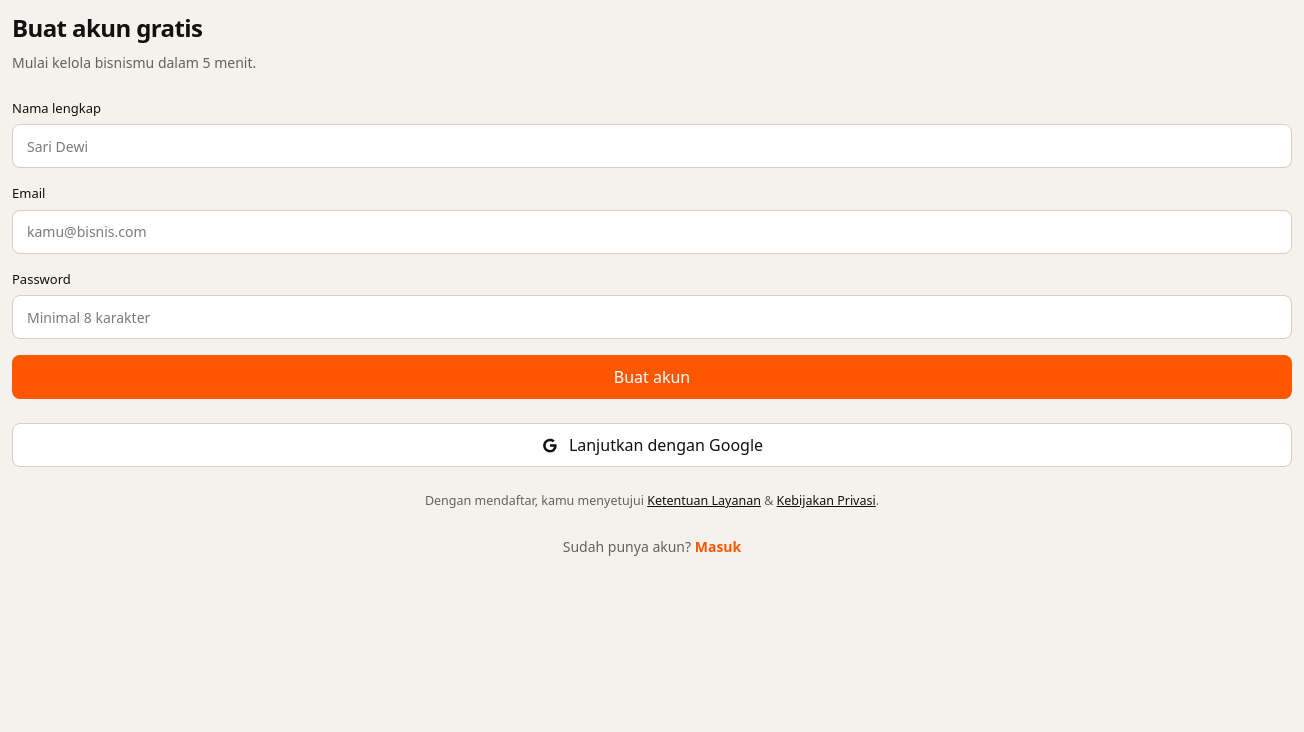
SignupForm › shows the "check your email" view when confirmation is required (no session)
Type "New User" into the field with placeholder "Sari Dewi" at (652, 146), box [12,124,1292,168]
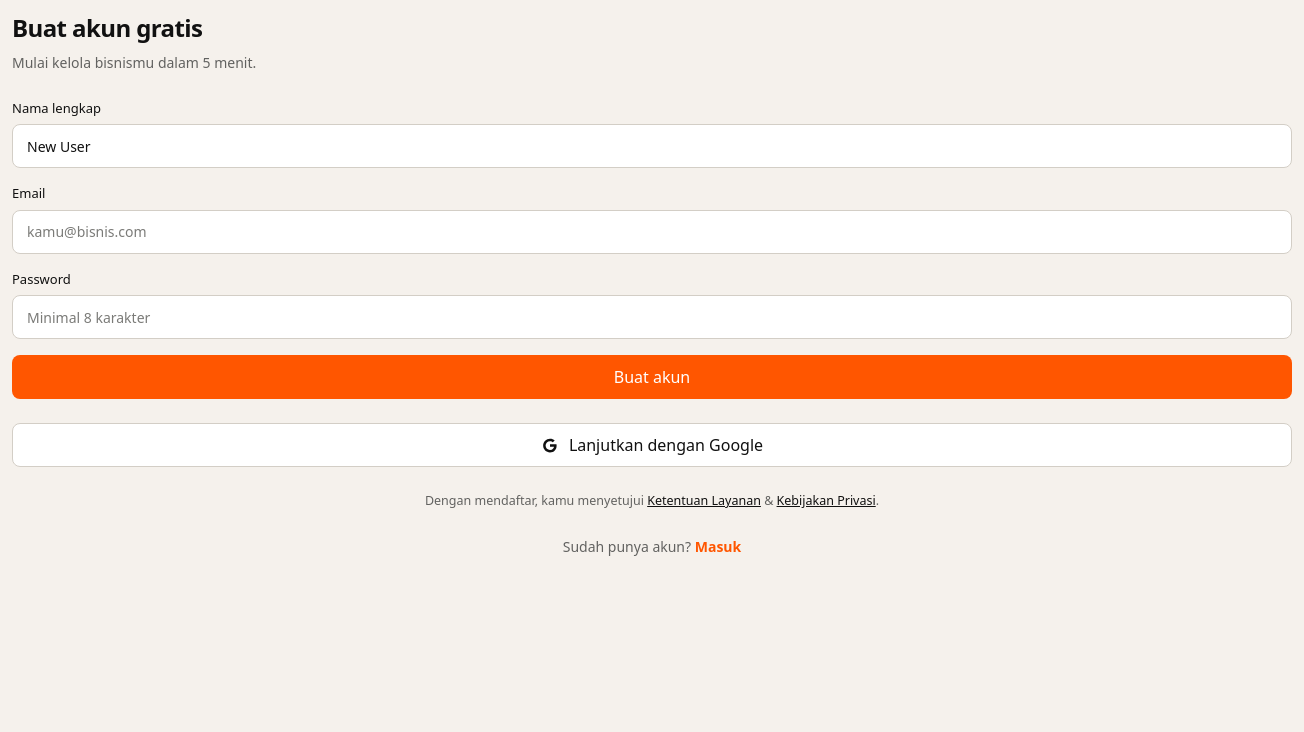
Type "new@user.com" into the field with placeholder "kamu@bisnis.com" at (652, 232), box [12,210,1292,254]
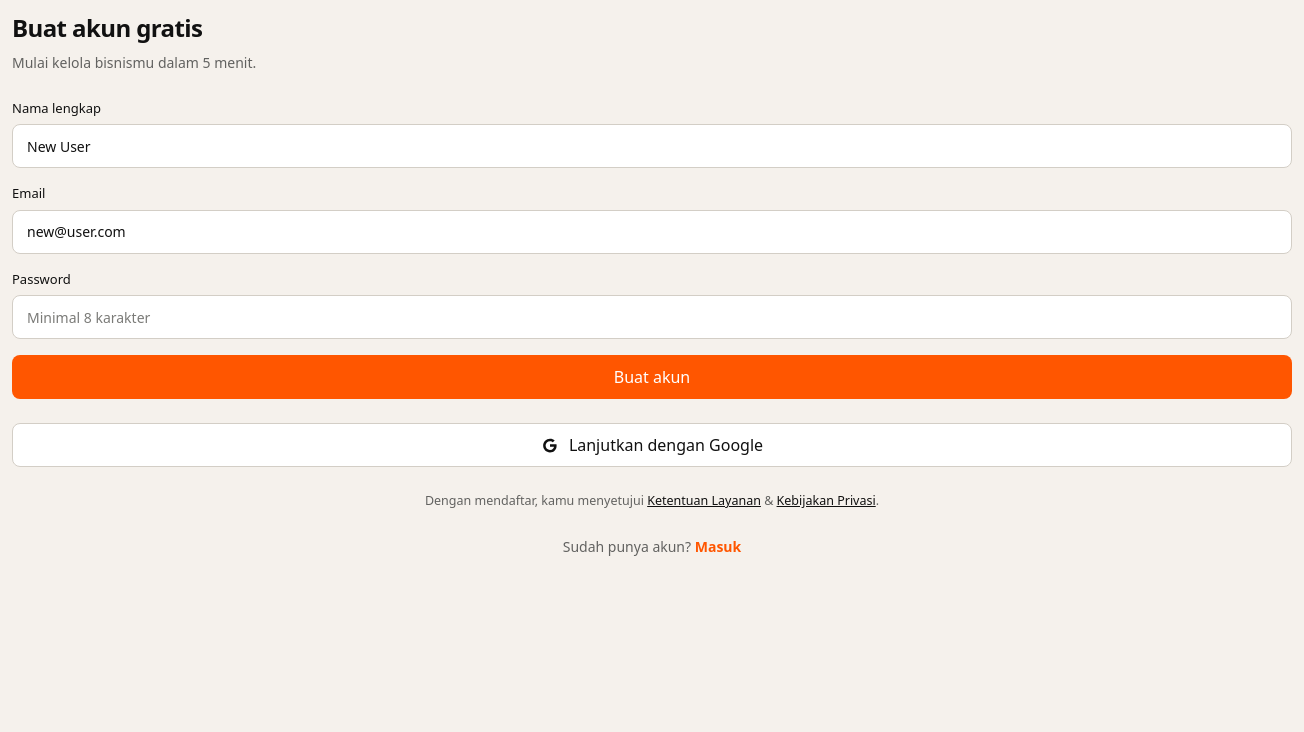
Type "Test123456!" into the password field with placeholder "Minimal 8 karakter" at (652, 317), box [12,295,1292,339]
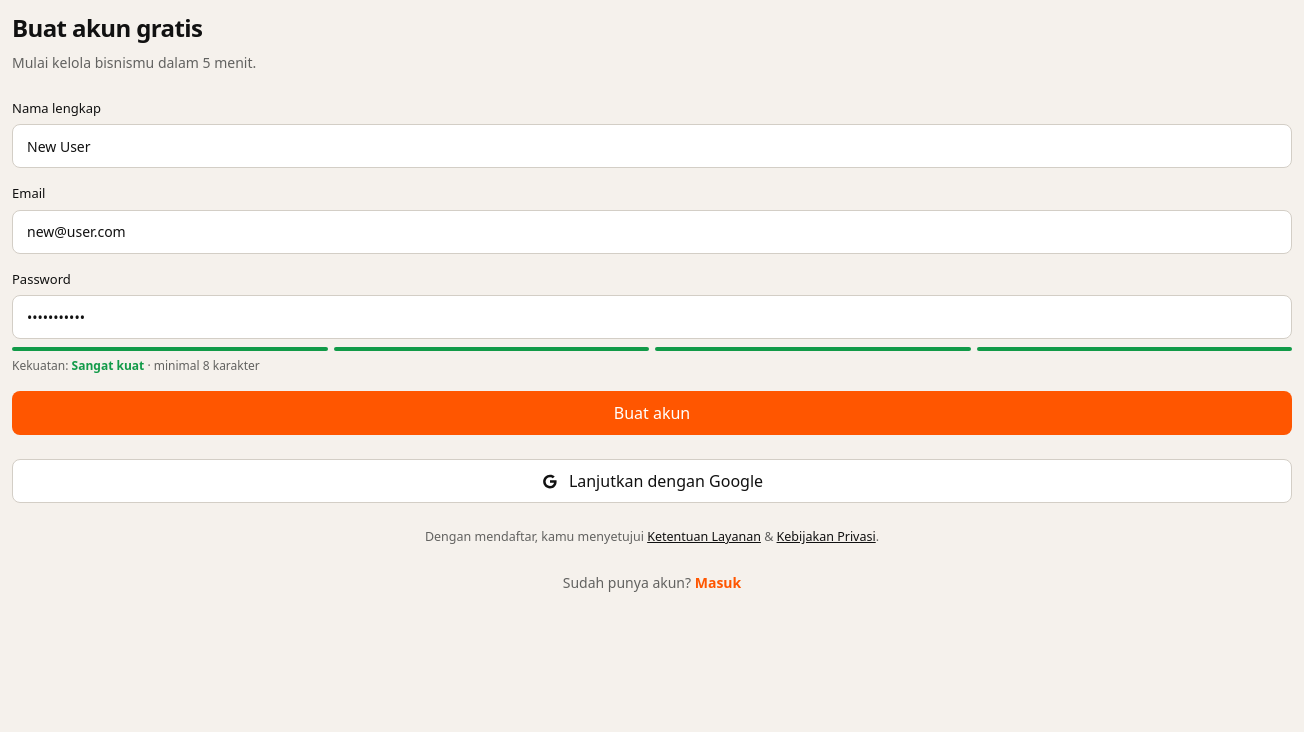
Click the button "Buat akun" at (652, 413), box [12,391,1292,435]
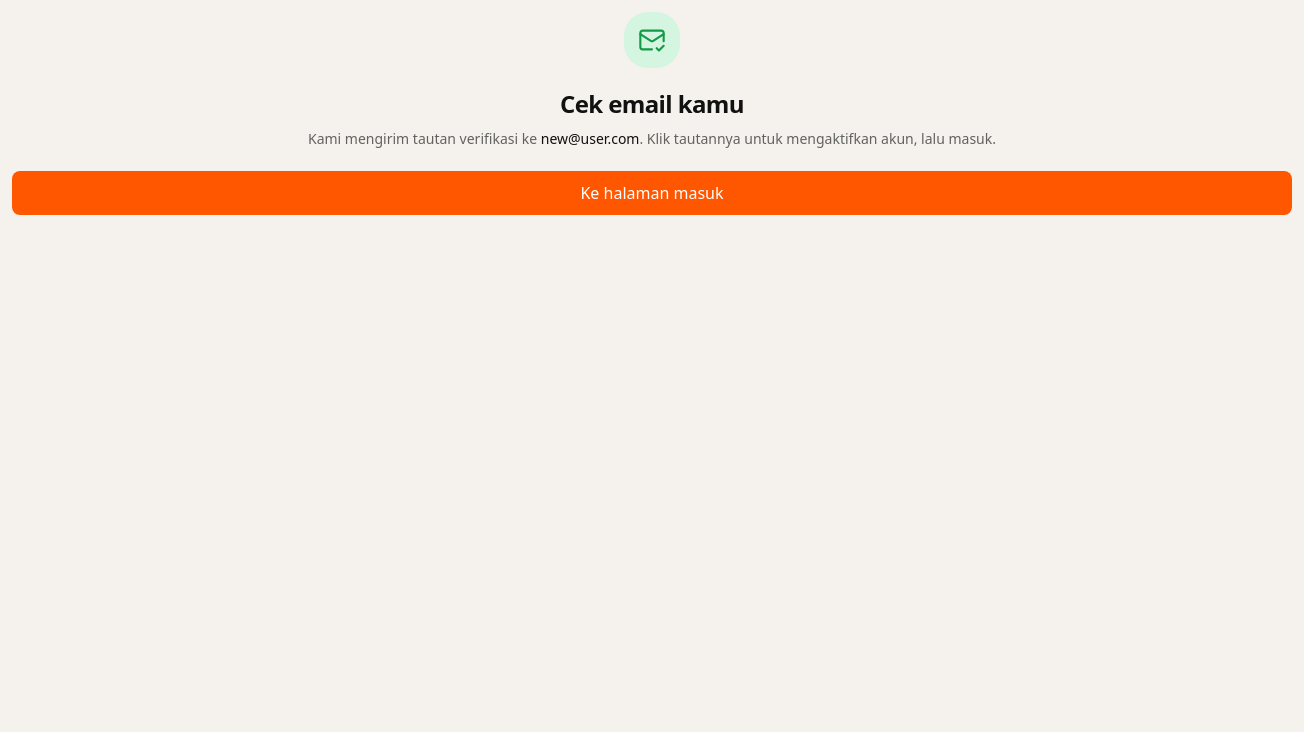
Result: the heading "Cek email kamu" is shown at [560,87,744,120]
Result: the text "new@user.com" is shown at [541,129,640,148]
